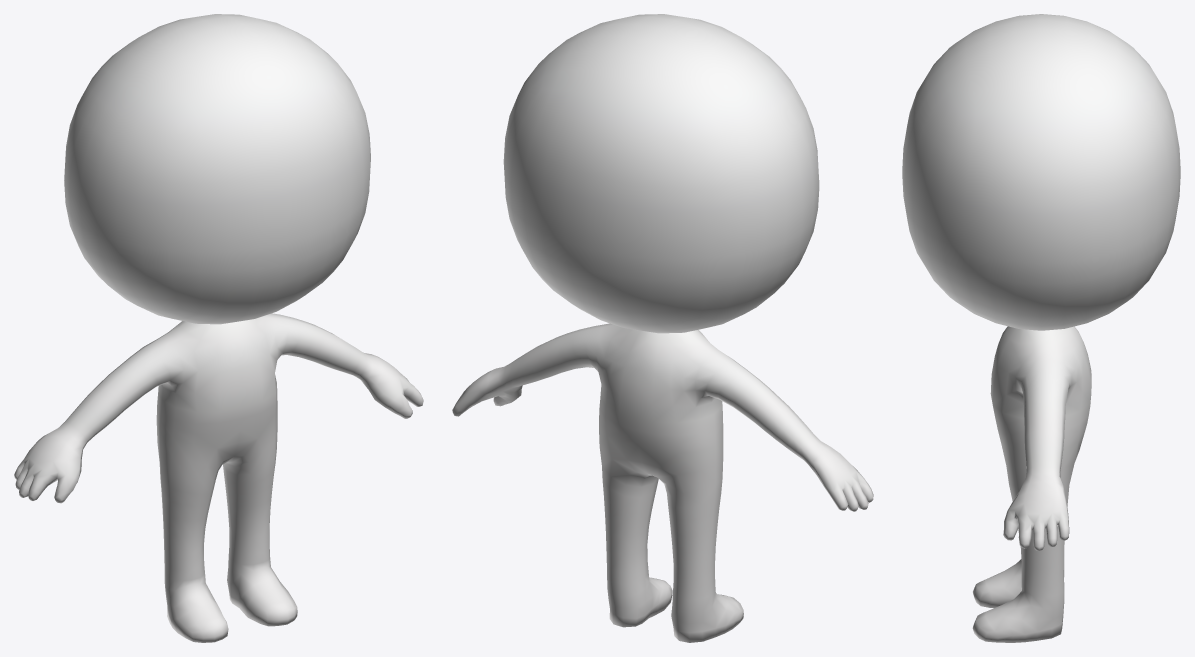
Rendered from Body_14.glb.
The picture shows the model from 3 angles, left to right: view 1: azimuth 30°, elevation 25°; view 2: azimuth 150°, elevation 25°; view 3: azimuth 270°, elevation 25°; orthographic projection. The views are drawn at different scales.
Parts seen in each view (by area): view 1: Body_14; view 2: Body_14; view 3: Body_14.
Part boxes in pixels (bbox=[...]): Body_14: bbox=[14, 14, 423, 642]; Body_14: bbox=[452, 14, 873, 642]; Body_14: bbox=[902, 14, 1180, 642].
Size of the model in its own units: 0.828 by 1.15 by 0.4965.
1 material, 1 textured.
